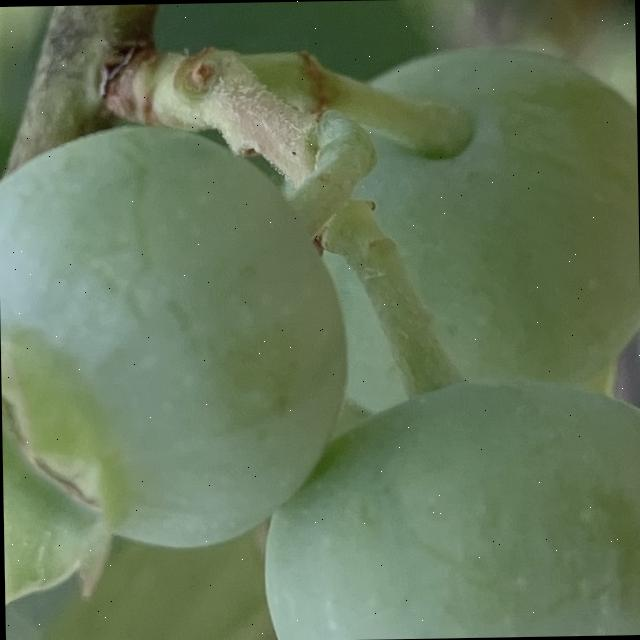Blueberries: (0, 112, 351, 611), (245, 355, 640, 640)
